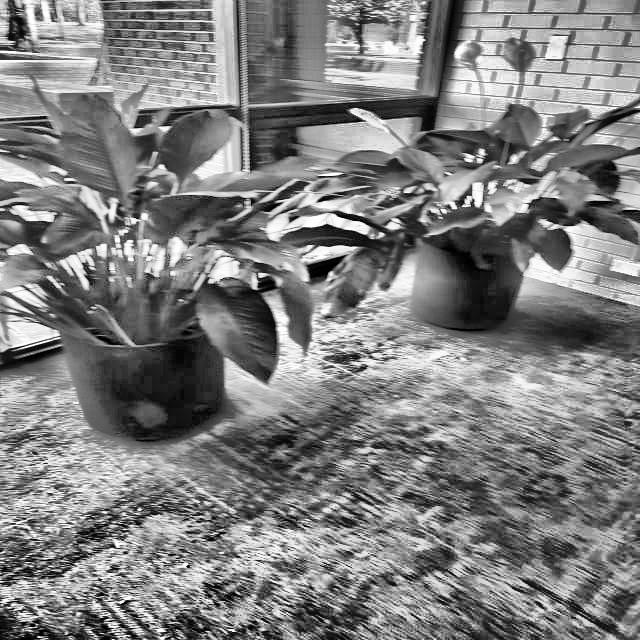plants: (2, 117, 328, 355), (350, 118, 632, 250)
